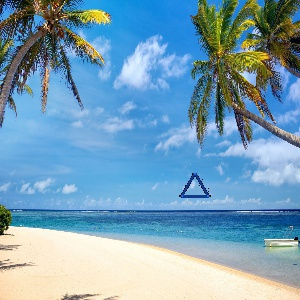triangle: (176, 171, 215, 201)
